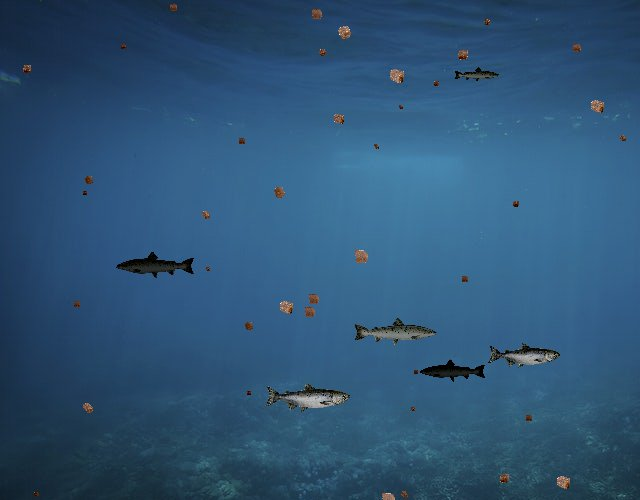Fish: (352, 316, 438, 347), (264, 382, 350, 413), (116, 251, 197, 280), (488, 343, 561, 369), (419, 359, 487, 383), (453, 66, 500, 83)
Pellet: (76, 397, 98, 419), (567, 39, 586, 58), (508, 197, 522, 211), (430, 77, 443, 90), (117, 40, 129, 52), (202, 264, 212, 274)
